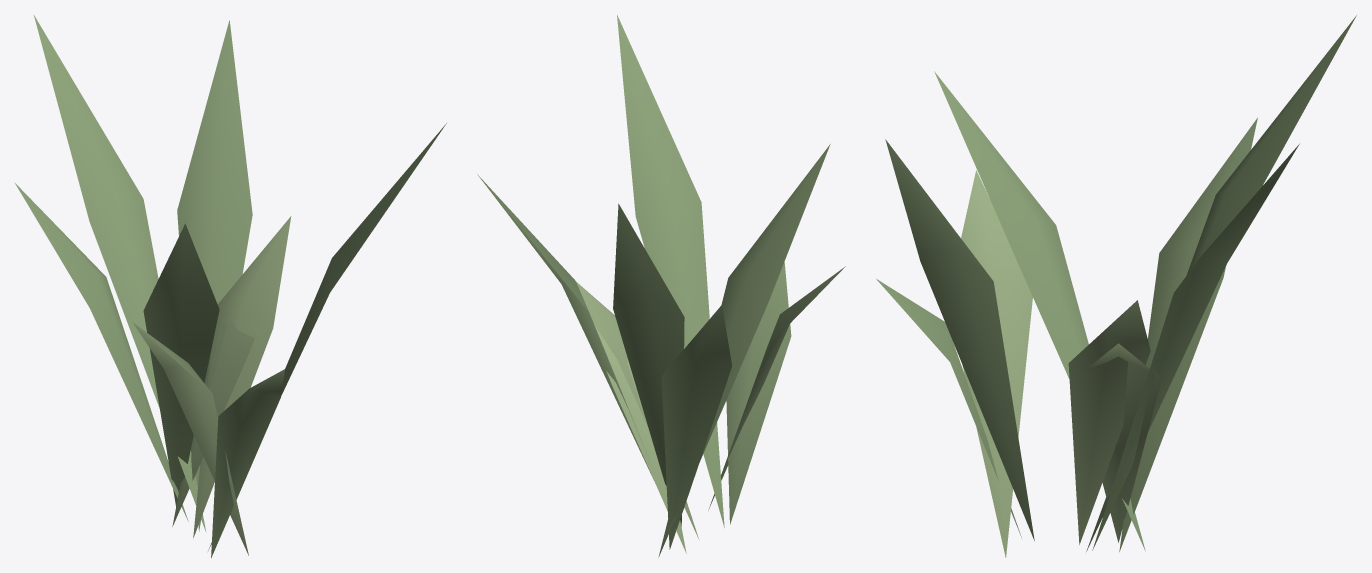
The model's file is SM_Grass_01_UV_0782.fbx.
The picture shows the model from 3 angles, left to right: view 1: azimuth 30°, elevation 25°; view 2: azimuth 150°, elevation 25°; view 3: azimuth 270°, elevation 25°; orthographic projection. The views are drawn at different scales.
Visible parts, largest first — view 1: SM_Grass_01_UV_0782; view 2: SM_Grass_01_UV_0782; view 3: SM_Grass_01_UV_0782.
Part boxes in pixels (bbox=[...]): SM_Grass_01_UV_0782: bbox=[14, 15, 446, 558]; SM_Grass_01_UV_0782: bbox=[477, 15, 845, 557]; SM_Grass_01_UV_0782: bbox=[876, 15, 1356, 557].
Size of the model in its own units: 67.15 by 88.76 by 104.
